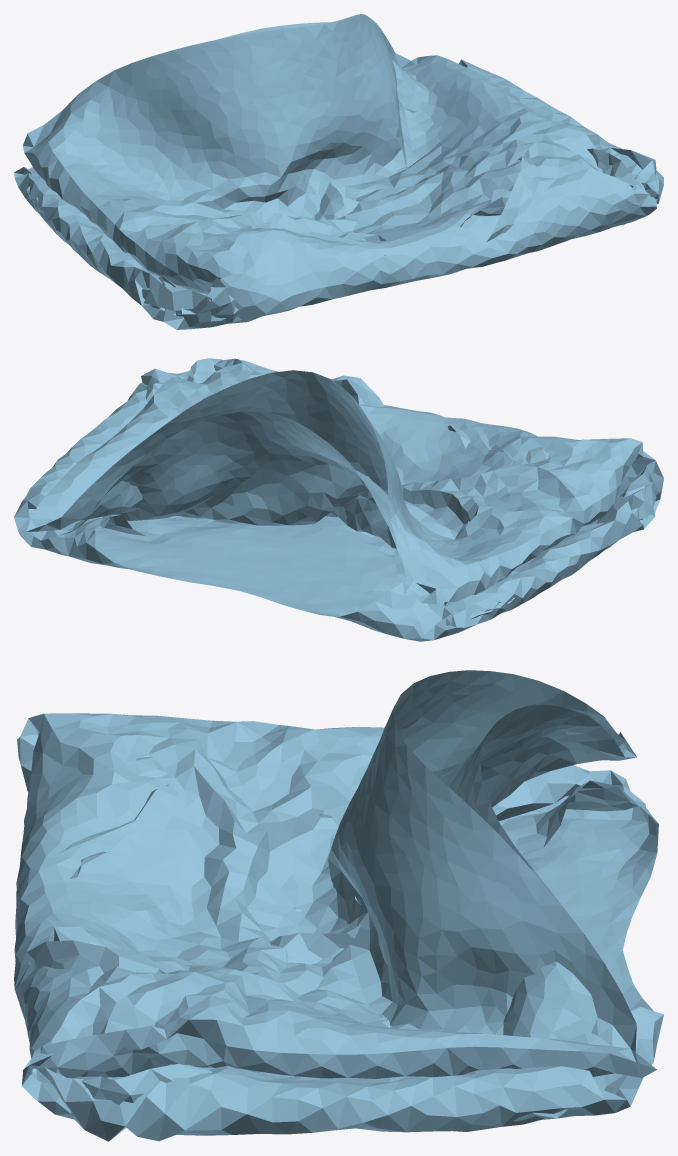
Rendered from frame_20.glb.
3 renders of one model, top to bottom at view 1: azimuth 30°, elevation 25°; view 2: azimuth 150°, elevation 25°; view 3: azimuth 270°, elevation 25°, orthographic. The views are drawn at different scales.
Visible parts, largest first — view 1: frame_20.obj; view 2: frame_20.obj; view 3: frame_20.obj.
Part boxes in pixels (left/top/right/bottom): frame_20.obj: left=14, top=14, right=663, bottom=329; frame_20.obj: left=14, top=358, right=663, bottom=641; frame_20.obj: left=14, top=670, right=663, bottom=1141.
Size of the model in its own units: 1.2 by 0.3855 by 0.881.
